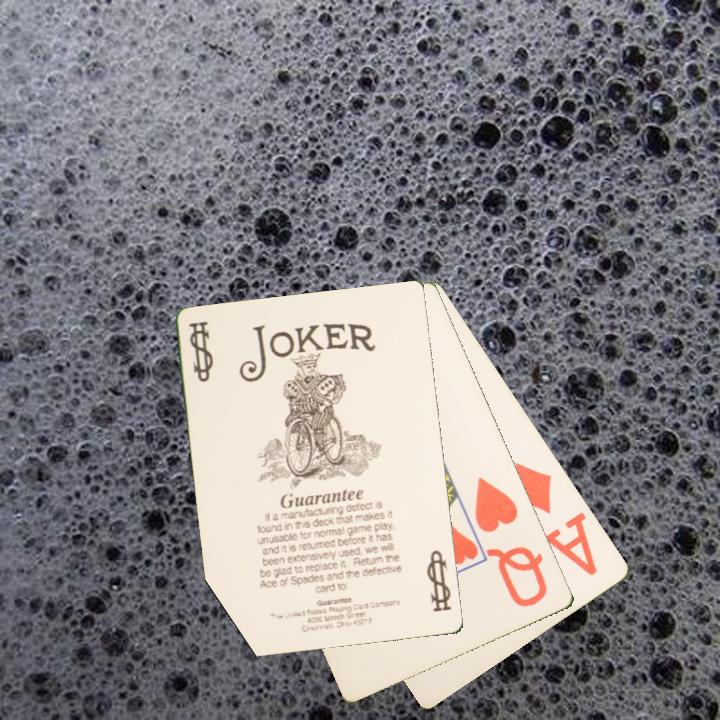Ad: (511, 459, 601, 579)
JK: (424, 547, 455, 616), (186, 318, 217, 385)
Qh: (471, 474, 551, 611)
